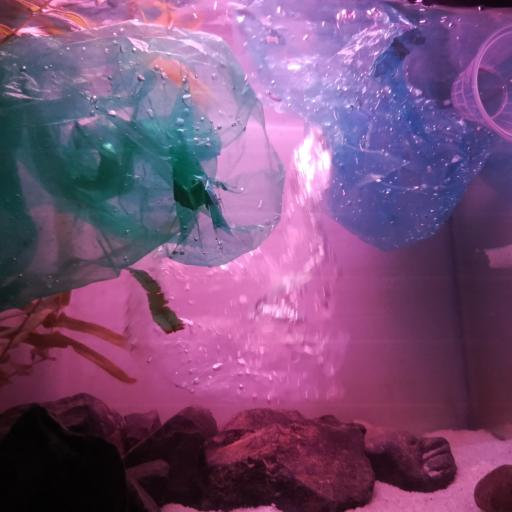plastic_bag: (0, 22, 284, 318), (240, 0, 512, 254), (122, 128, 348, 404)
plastic_cup: (449, 22, 512, 142)
